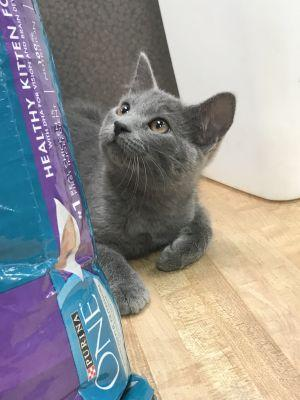rblue: (90, 42, 242, 205)
